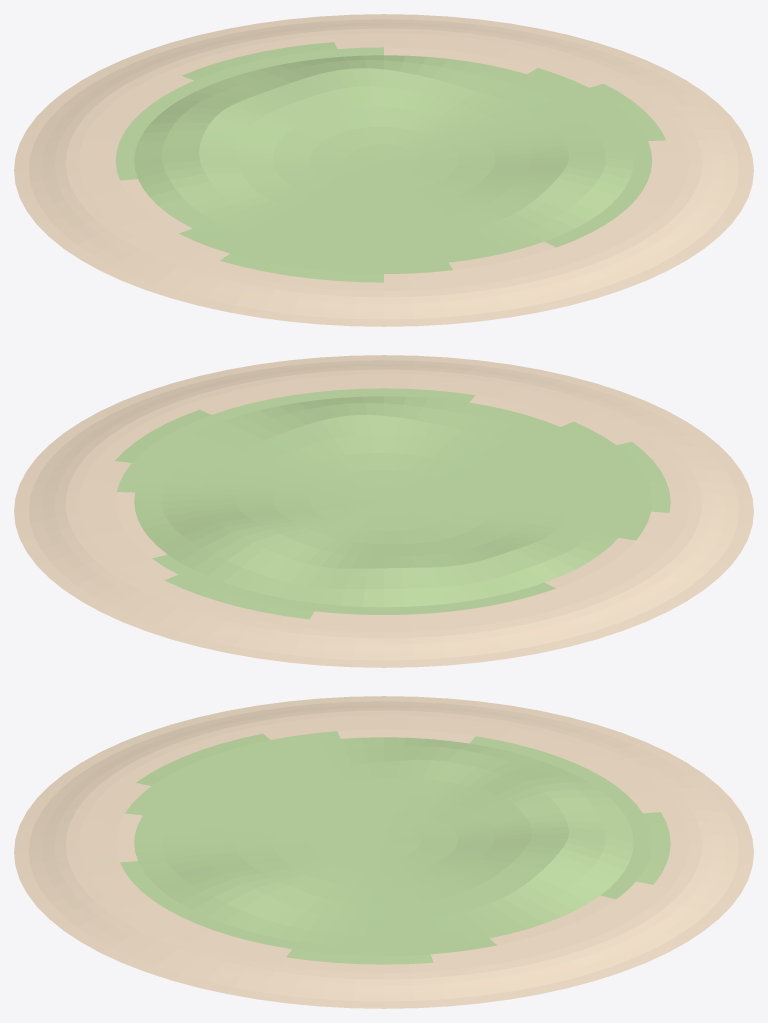
The model's file is Island.fbx.
The picture shows the model from 3 angles, top to bottom: view 1: azimuth 30°, elevation 25°; view 2: azimuth 150°, elevation 25°; view 3: azimuth 270°, elevation 25°; orthographic projection.
Visible parts, largest first — view 1: Island_Model; view 2: Island_Model; view 3: Island_Model.
Part boxes in pixels (left/top/right/bottom): Island_Model: left=14, top=14, right=753, bottom=326; Island_Model: left=14, top=355, right=753, bottom=667; Island_Model: left=14, top=696, right=753, bottom=1008.
Bounding box in the file's own units: 40 × 1.48 × 40.
